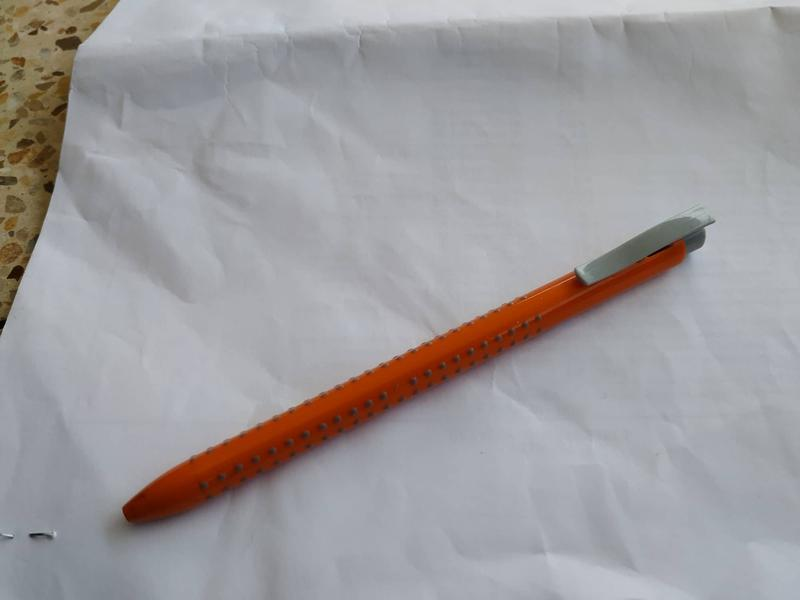qillqana: (82, 190, 730, 542)
